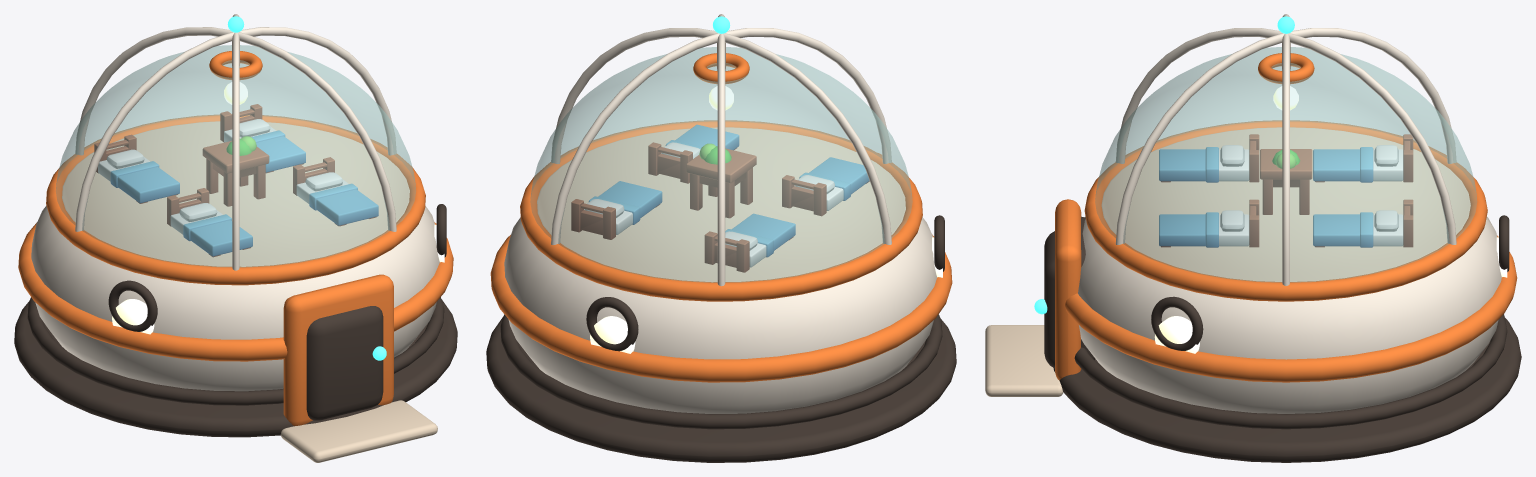
The model's file is dome.glb.
3 renders of one model, left to right at view 1: azimuth 30°, elevation 25°; view 2: azimuth 150°, elevation 25°; view 3: azimuth 270°, elevation 25°, orthographic. The views are drawn at different scales.
Visible parts, largest first — view 1: Sphere.001, Cylinder.001, Cylinder.005, Cylinder, Torus.005, Torus, Cube.002, Cube.001, Torus.001, Cube.003, Torus.008, Torus.006 (+10 smaller); view 2: Sphere.001, Cylinder.001, Cylinder.005, Cylinder, Torus.005, Torus, Torus.001, Torus.006, Torus.007, bed_single_A, bed_single_A.002, bed_single_A.001 (+7 smaller); view 3: Sphere.001, Cylinder.001, Cylinder.005, Cylinder, Torus.005, Torus, Torus.001, Torus.008, Torus.007, Cube.003, Cube.001, bed_single_A (+10 smaller).
Part boxes in pixels (left/top/right/bottom): Sphere.001: left=56, top=45, right=415, bottom=267; Cylinder.001: left=31, top=205, right=439, bottom=391; Cylinder.005: left=62, top=121, right=409, bottom=266; Cylinder: left=14, top=299, right=457, bottom=437; Torus.005: left=46, top=114, right=425, bottom=285; Torus: left=18, top=222, right=453, bottom=361; Cube.002: left=306, top=306, right=383, bottom=420; Cube.001: left=283, top=274, right=393, bottom=425; Torus.001: left=27, top=297, right=444, bottom=405; Cube.003: left=280, top=400, right=437, bottom=462; Torus.008: left=75, top=27, right=396, bottom=231; Torus.006: left=75, top=27, right=396, bottom=231; Sphere.001: left=530, top=47, right=912, bottom=282; Cylinder.001: left=504, top=217, right=936, bottom=413; Cylinder.005: left=537, top=127, right=905, bottom=282; Cylinder: left=486, top=316, right=956, bottom=462; Torus.005: left=520, top=120, right=922, bottom=301; Torus: left=490, top=234, right=952, bottom=382; Torus.001: left=500, top=314, right=942, bottom=429; Torus.006: left=551, top=28, right=891, bottom=244; Torus.007: left=551, top=28, right=891, bottom=244; bed_single_A: left=571, top=181, right=662, bottom=239; bed_single_A.002: left=782, top=157, right=869, bottom=216; bed_single_A.001: left=704, top=213, right=795, bottom=272; Sphere.001: left=1095, top=47, right=1476, bottom=282; Cylinder.001: left=1078, top=216, right=1501, bottom=413; Cylinder.005: left=1101, top=127, right=1470, bottom=281; Cylinder: left=1053, top=318, right=1521, bottom=462; Torus.005: left=1084, top=120, right=1487, bottom=301; Torus: left=1065, top=235, right=1517, bottom=382; Torus.001: left=1074, top=314, right=1507, bottom=429; Torus.008: left=1115, top=28, right=1456, bottom=244; Torus.007: left=1116, top=28, right=1456, bottom=244; Cube.003: left=985, top=325, right=1063, bottom=396; Cube.001: left=1055, top=199, right=1081, bottom=380; bed_single_A: left=1313, top=199, right=1413, bottom=247.
Bounding box in the file's own units: 2.16 × 1.77 × 2.46.
11 materials, 1 textured.
